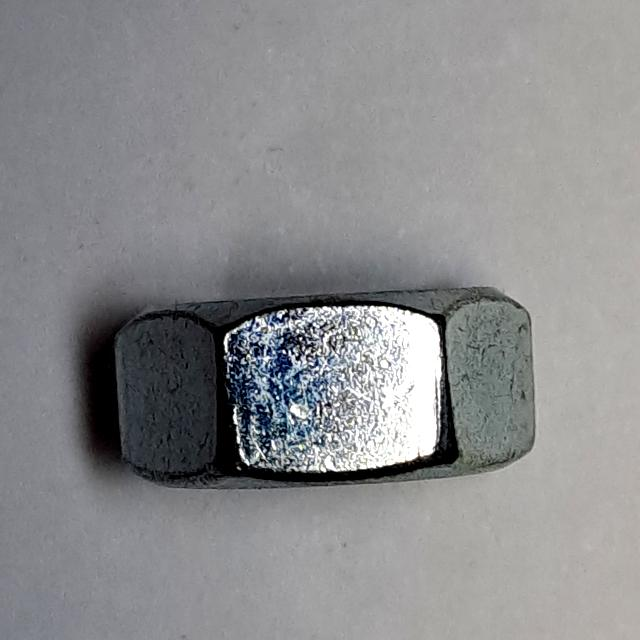Side_Excellent: (104, 259, 547, 510)
